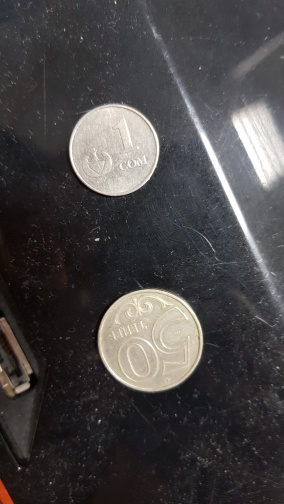coin: (96, 288, 206, 394), (68, 104, 161, 198)
